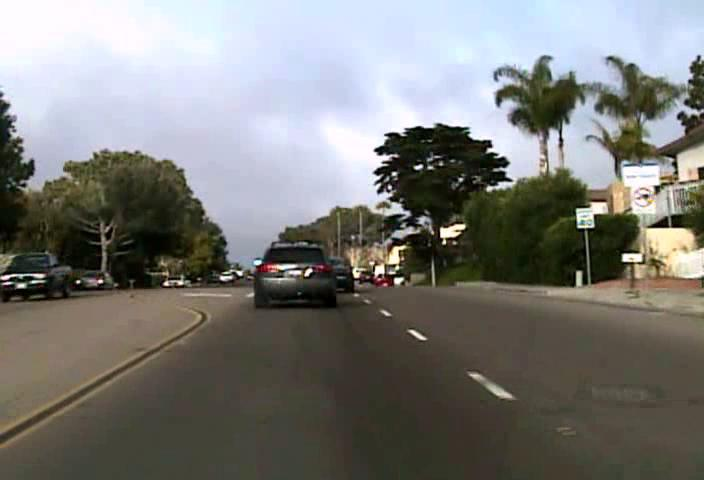speedLimit40: (575, 206, 595, 228)
